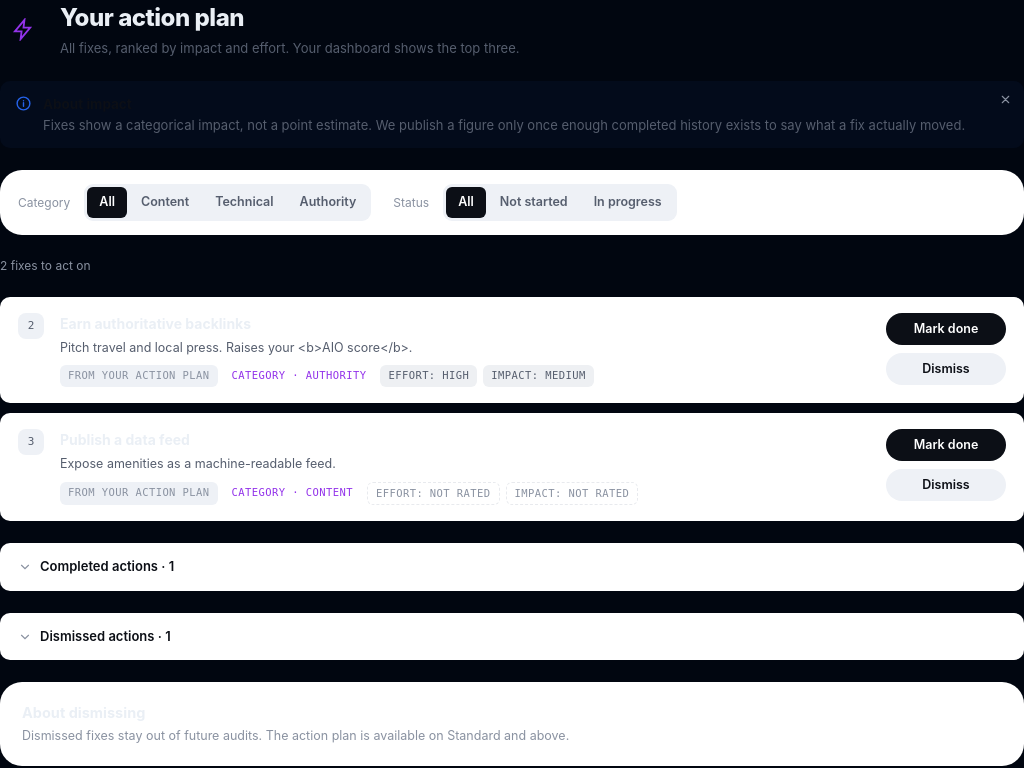
it: fixes page › lists a dismissed action in its own accordion, closed by default
This screenshot has width=1024, height=768.
Click the button "Dismissed actions · 1" at (105, 636), box [0,613,1023,660]
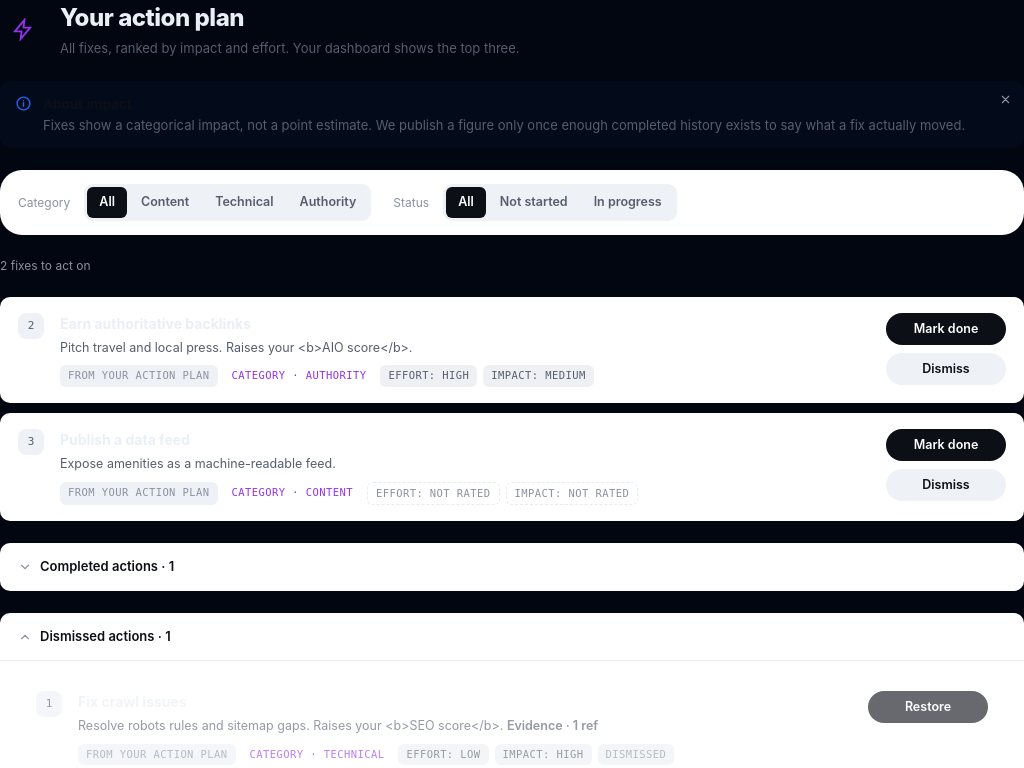
Expected: the text "Dismissed" is shown, [598,744,674,765]
Expected: the text "Category · Technical" is shown, [250,748,384,760]
